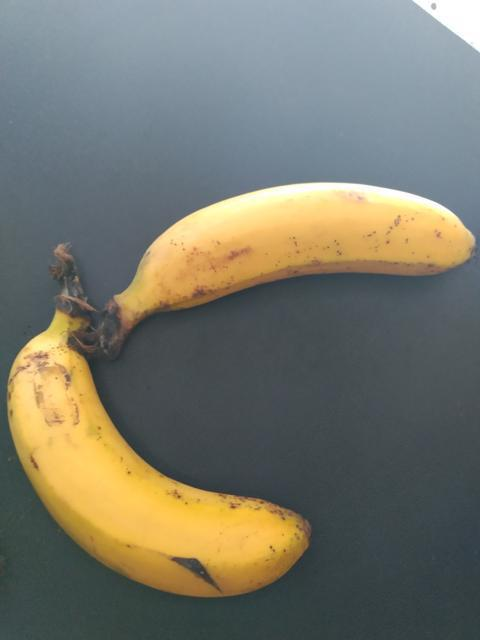ripe: (0, 305, 333, 606), (122, 162, 479, 310)
